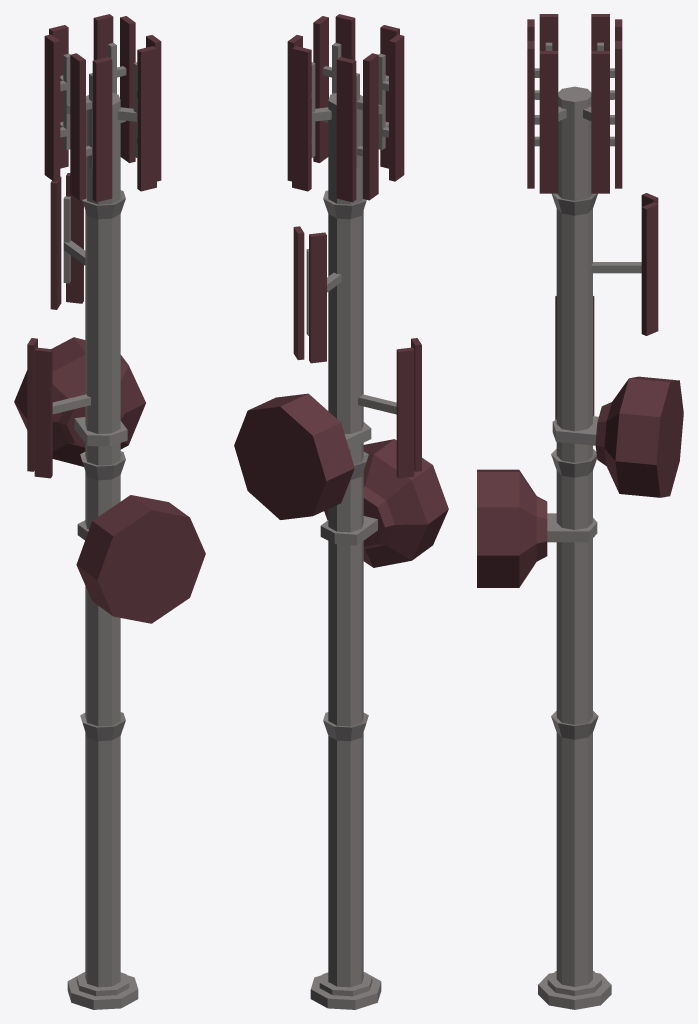
Rendered from cell-tower-basic.fbx.
3 renders of one model, left to right at view 1: azimuth 30°, elevation 25°; view 2: azimuth 150°, elevation 25°; view 3: azimuth 270°, elevation 25°, orthographic.
Parts seen in each view (by area): view 1: cell-tower-basic; view 2: cell-tower-basic; view 3: cell-tower-basic.
Boxes of the visible parts, left/top/right/bottom form: cell-tower-basic: left=14, top=14, right=205, bottom=1009; cell-tower-basic: left=234, top=14, right=448, bottom=1009; cell-tower-basic: left=477, top=14, right=683, bottom=1009.
Bounding box in the file's own units: 3.05 × 19.43 × 3.79.
